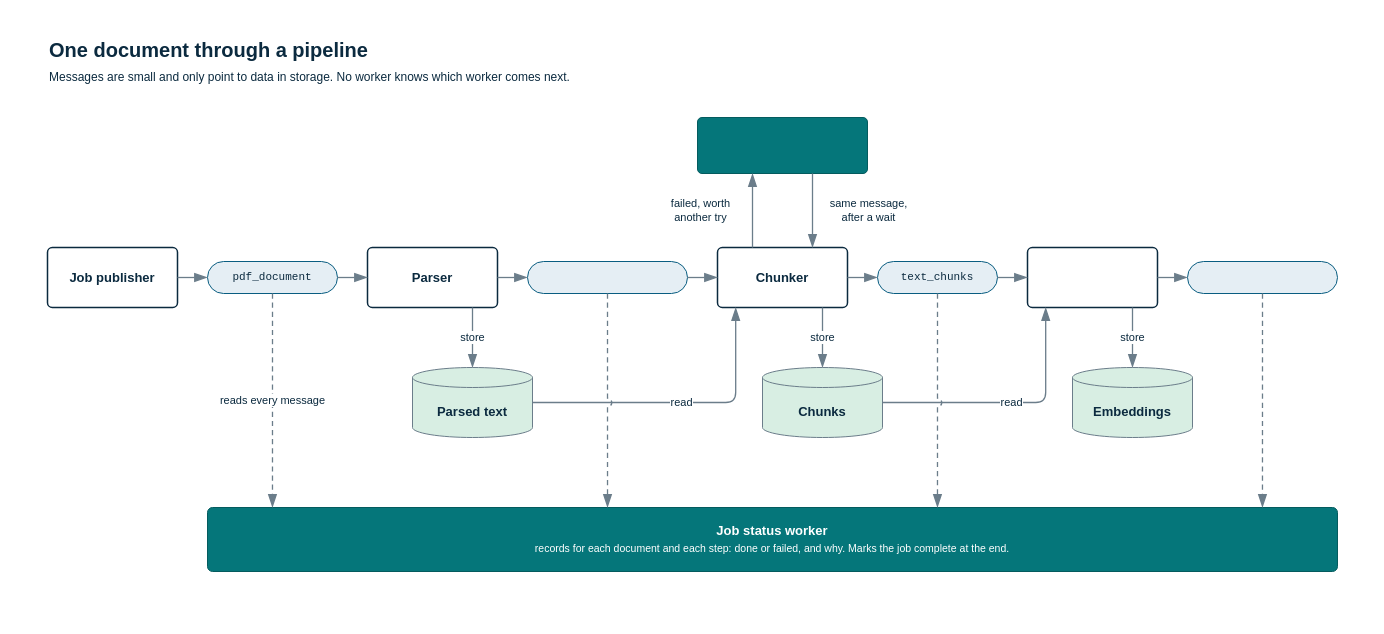
Image size: 1384x634. Some labels were removed from this diagram. Here are the shapes that lost their labels. From the top down, the box of each, then its label:
(696, 116, 868, 174): Retry worker
(526, 260, 688, 294): markdown_document
(1026, 246, 1158, 308): Embedder
(1186, 260, 1338, 294): embedded_document
